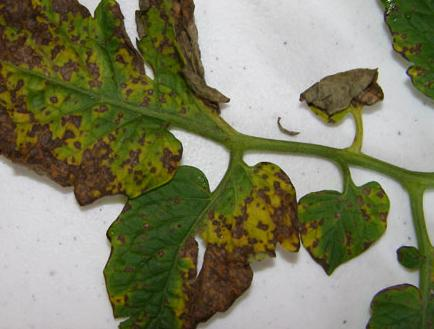Tomato Septoria leaf spot: (95, 152, 314, 329), (0, 0, 188, 205), (123, 0, 246, 115), (291, 175, 389, 283), (364, 0, 434, 130), (344, 237, 434, 329)
